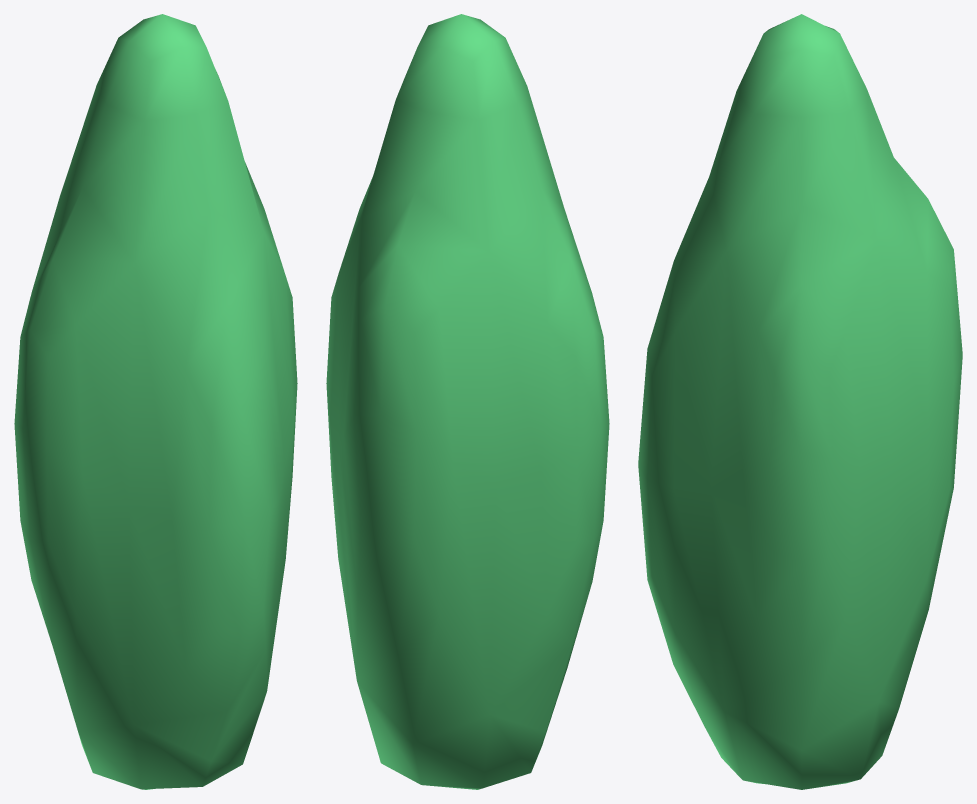
Rendered from Hedge2_low.fbx.
The picture shows the model from 3 angles, left to right: view 1: azimuth 30°, elevation 25°; view 2: azimuth 150°, elevation 25°; view 3: azimuth 270°, elevation 25°; orthographic projection.
Visible parts, largest first — view 1: Hedge.002_low; view 2: Hedge.002_low; view 3: Hedge.002_low.
Part boxes in pixels (bbox=[...]): Hedge.002_low: bbox=[14, 14, 297, 789]; Hedge.002_low: bbox=[326, 14, 609, 789]; Hedge.002_low: bbox=[638, 14, 962, 789].
Bounding box in the file's own units: 48.73 × 132 × 51.69.
